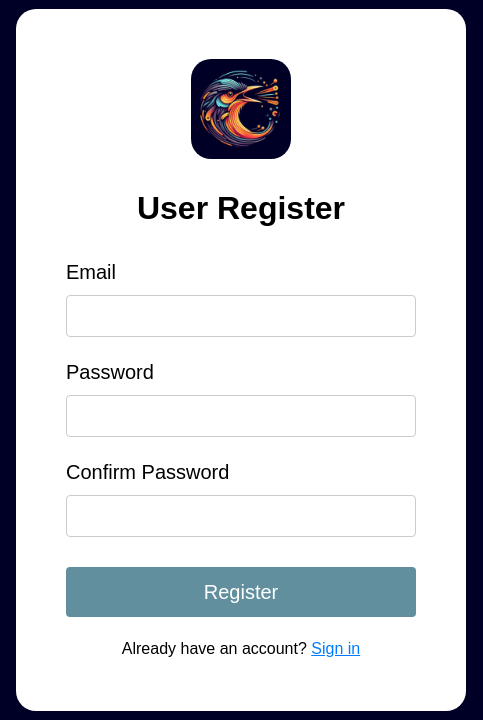
Test: Register Listener Page › shows error when passwords do not match
The image size is (483, 720).
Type "password123" into the password field labelled "Password". click: (241, 416)
box: [66,395,416,437]
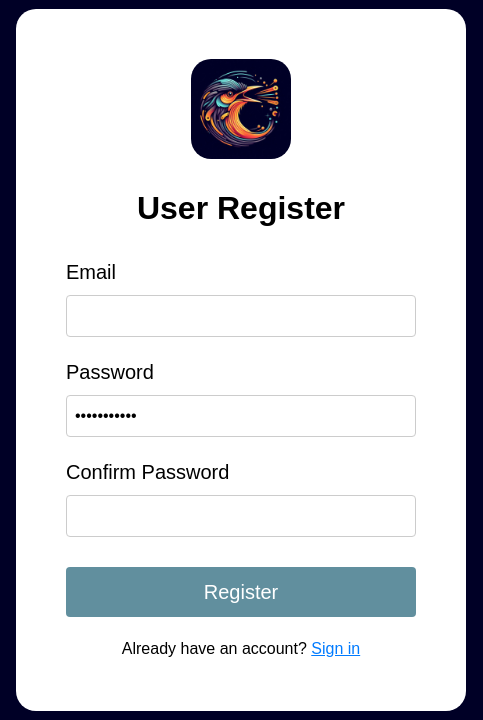
Type "password456" into the password field labelled "Confirm Password". click: (241, 516)
box: [66,495,416,537]
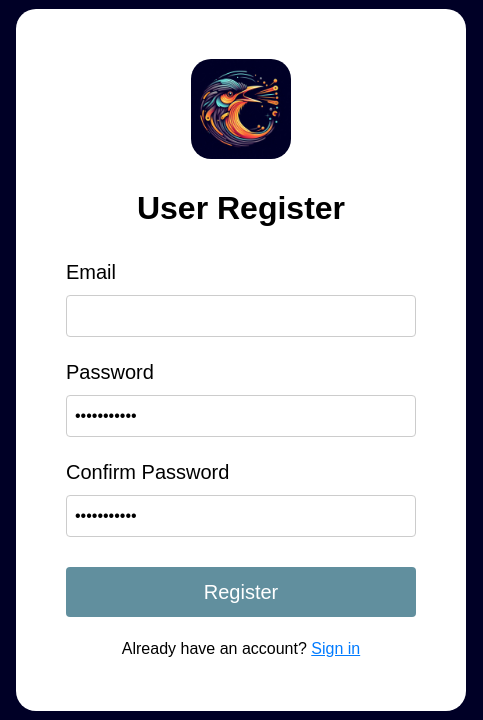
Leave the password field labelled "Confirm Password", box [66,495,416,537]
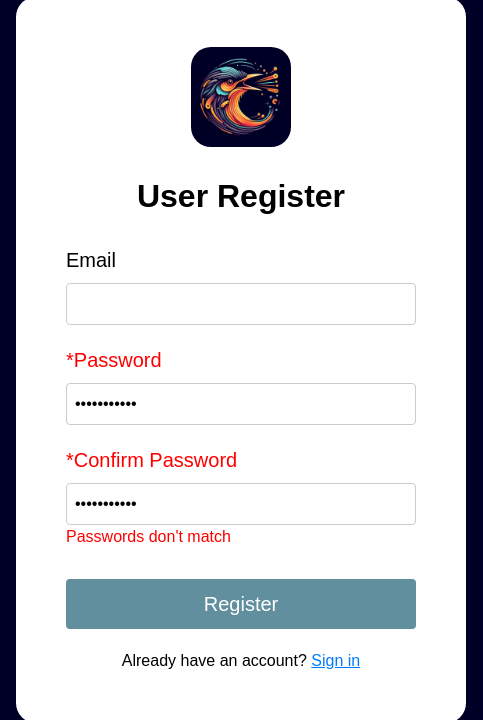
Expected: the text "Passwords don't match" is shown, [66,528,231,545]
